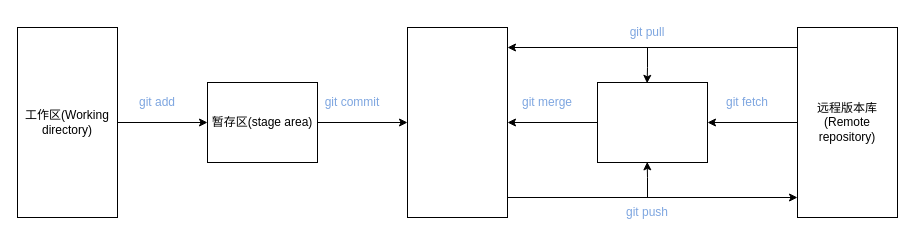
Some shapes in this 915 by 244 pixel diagram are drawn without their labels. The centre of each missing label's shape, as x and y in pixels:
本地仓库(Local repository): (x=457, y=122)
远程仓库副本: (x=652, y=122)
